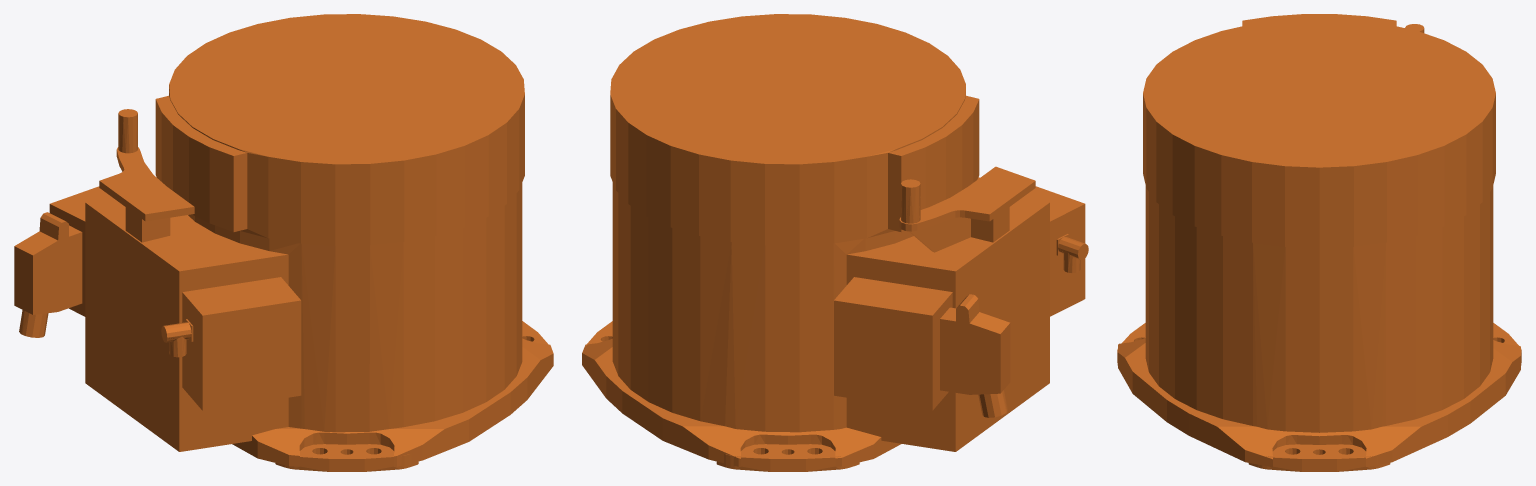
3 renders of one model, left to right at view 1: azimuth 30°, elevation 25°; view 2: azimuth 150°, elevation 25°; view 3: azimuth 270°, elevation 25°, orthographic.
Parts seen in each view (by area): view 1: base_link; view 2: base_link; view 3: base_link.
Boxes of the visible parts, <box> form: base_link: <box>14,14,553,471</box>; base_link: <box>582,14,1088,471</box>; base_link: <box>1117,14,1521,471</box>.
Bounding box in the file's own units: 0.7992 × 0.6215 × 0.494.
